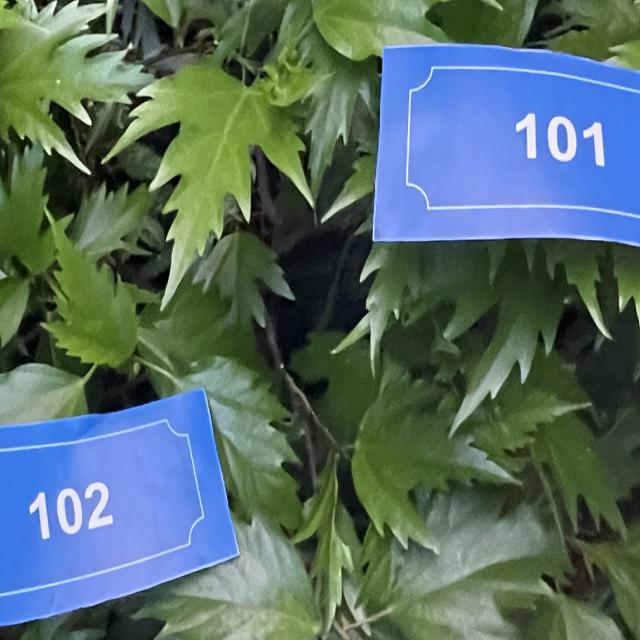Card: (358, 21, 640, 304), (0, 383, 253, 640)
